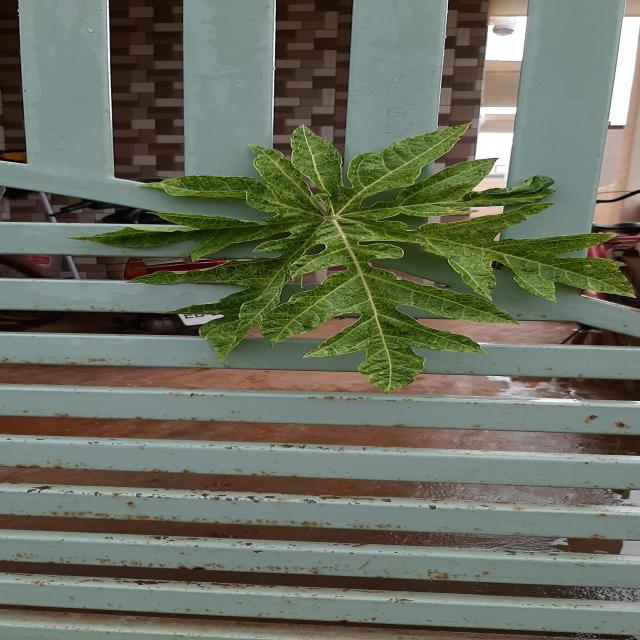papaya: (79, 125, 631, 391)
